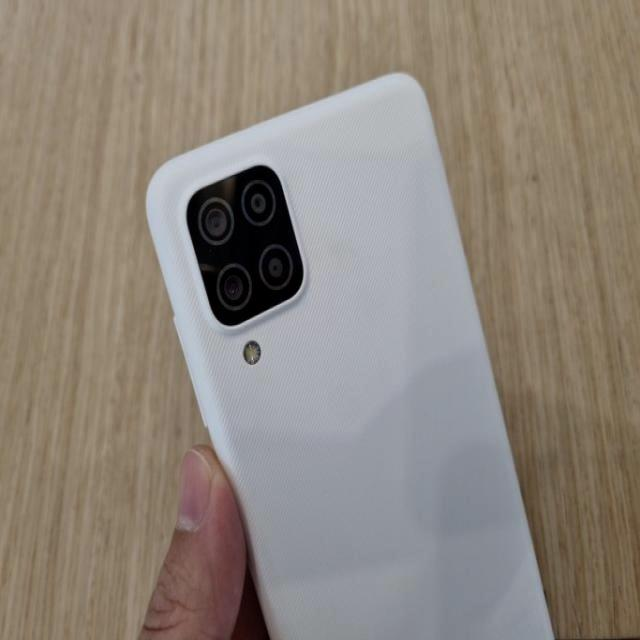lens: (190, 162, 303, 325)
phone: (143, 67, 561, 640)
